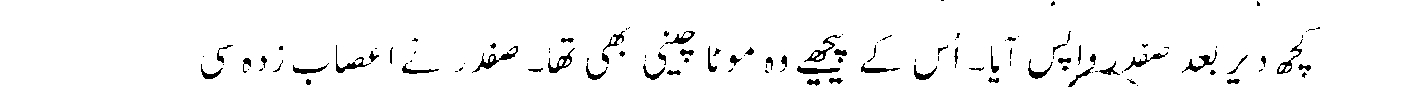bay_shosha: (291, 62, 332, 84)
